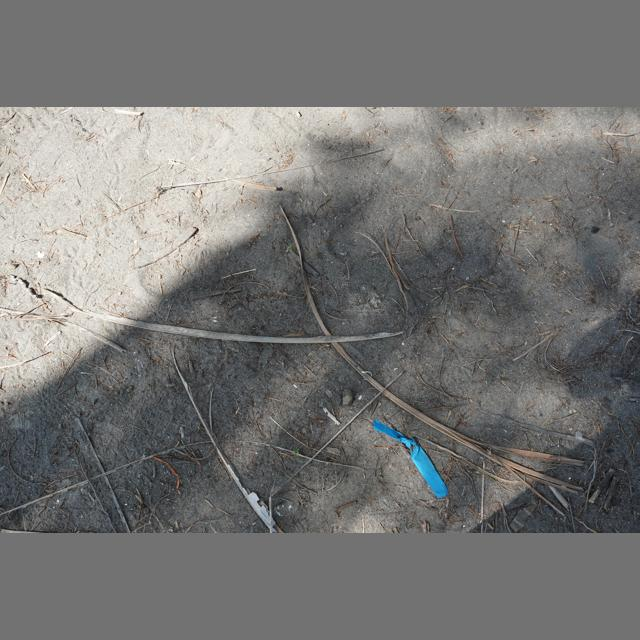litter: (172, 344, 284, 533), (373, 419, 448, 499)
